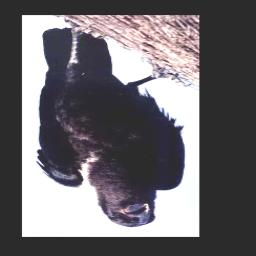Crow: (33, 22, 188, 229)
